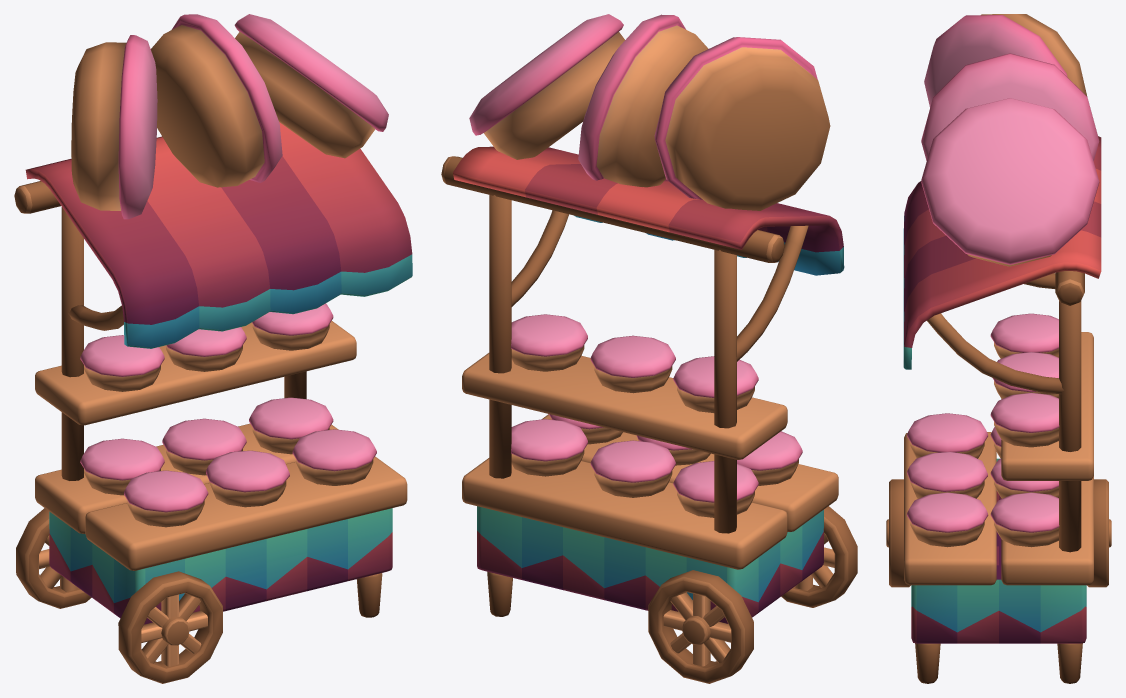
File: mct_build_full_stand_donut.fbx
3 views of the same model, side by side, from view 1: azimuth 30°, elevation 25°; view 2: azimuth 150°, elevation 25°; view 3: azimuth 270°, elevation 25° (orthographic). The views are drawn at different scales.
Visible parts, largest first — view 1: stand_donut; view 2: stand_donut; view 3: stand_donut.
Part boxes in pixels (left/top/right/bottom): stand_donut: left=14, top=14, right=412, bottom=683; stand_donut: left=441, top=14, right=857, bottom=683; stand_donut: left=886, top=14, right=1111, bottom=683.
Size of the model in its own units: 197 by 339 by 121.
